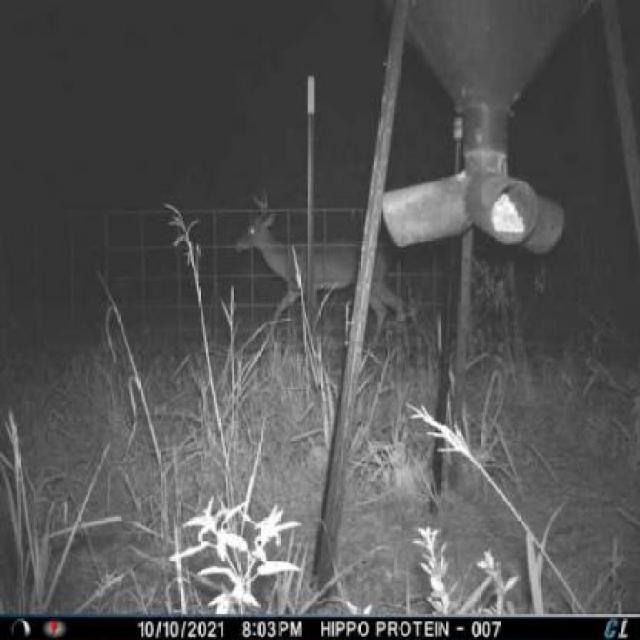Deer: (229, 183, 414, 352)
